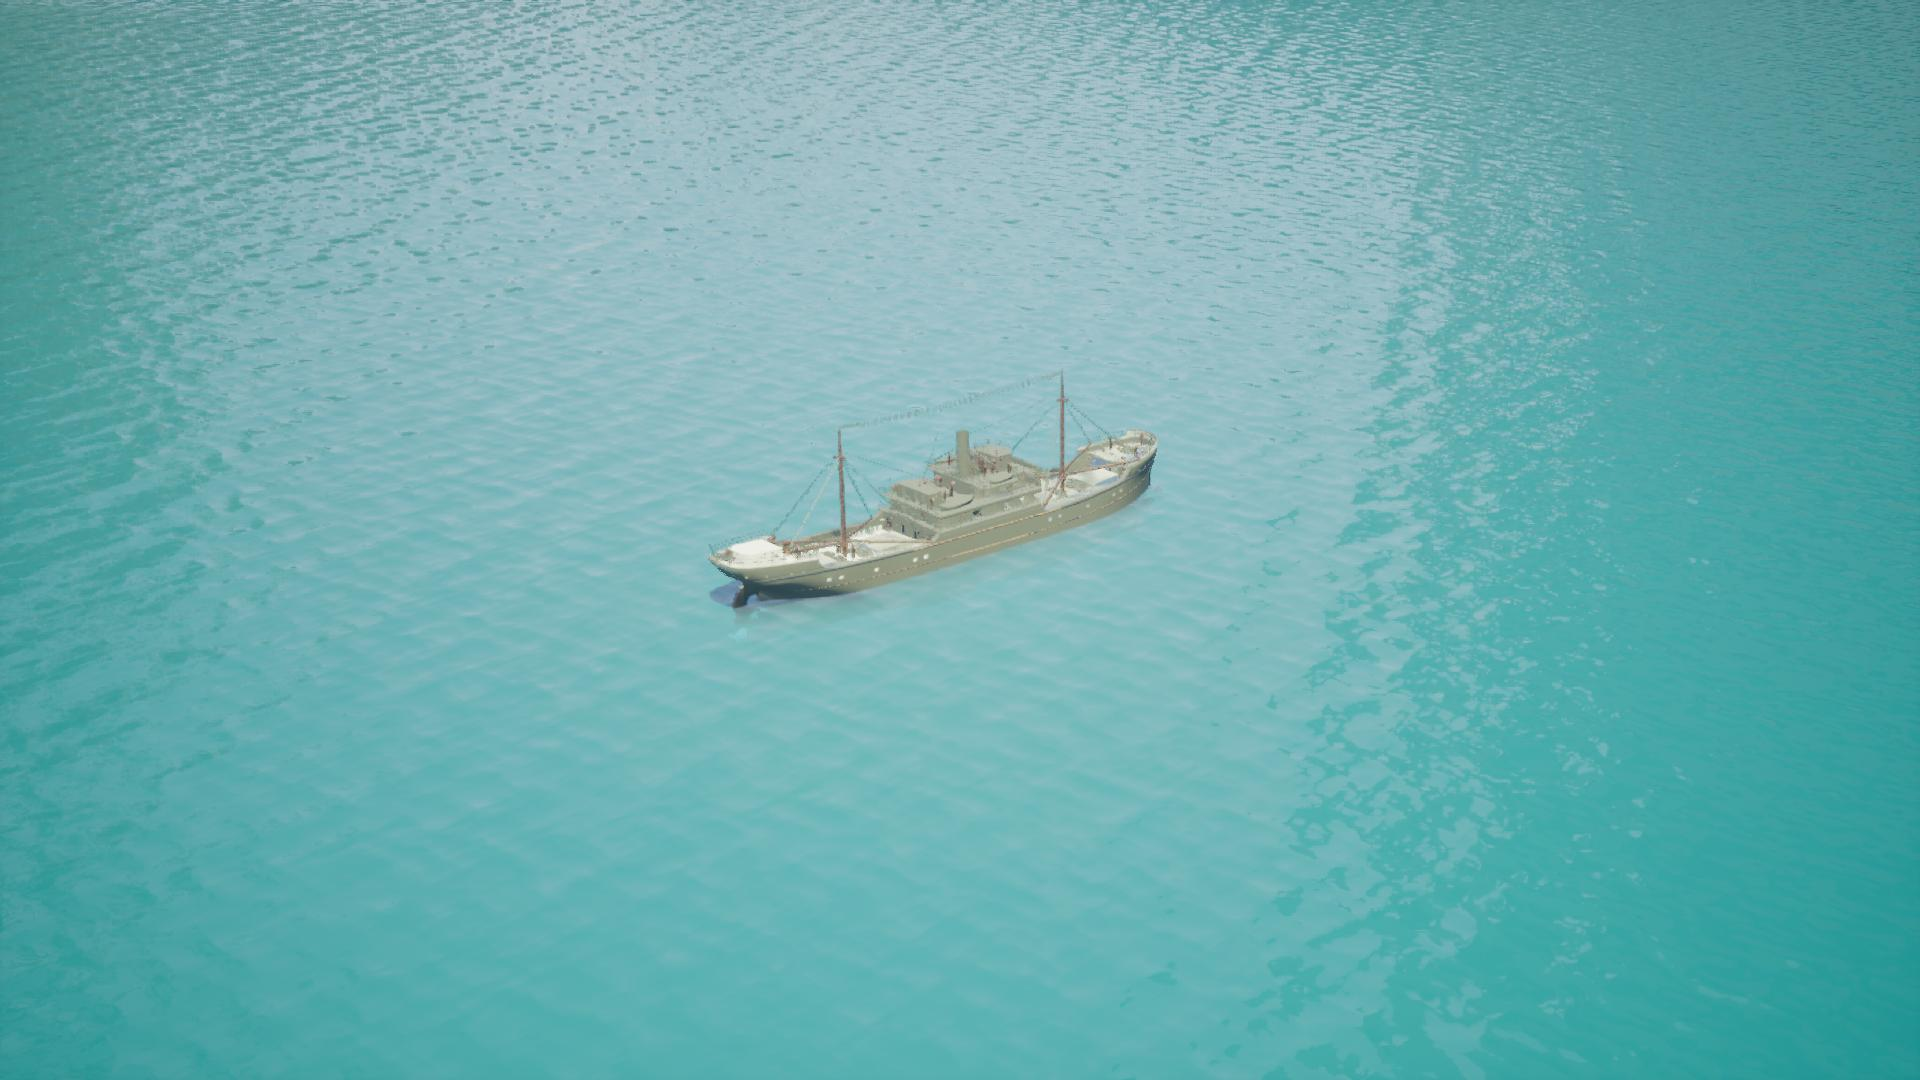Fishing Boat: (709, 368, 1164, 607)
